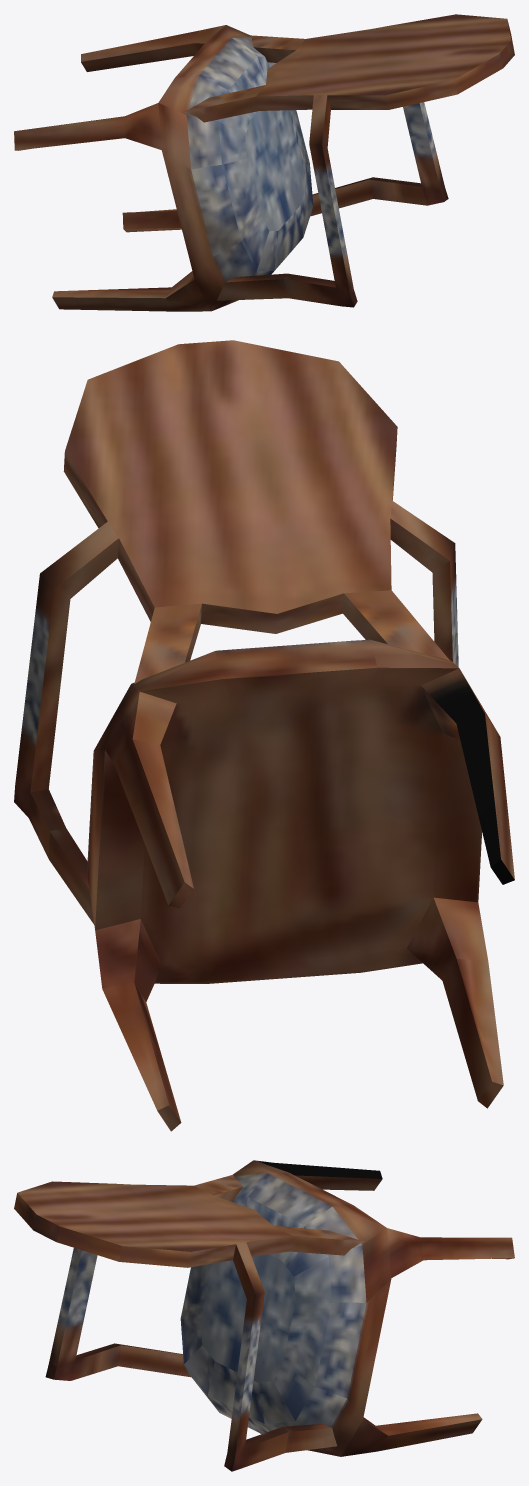
File: chair.obj
The picture shows the model from 3 angles, top to bottom: view 1: azimuth 30°, elevation 25°; view 2: azimuth 150°, elevation 25°; view 3: azimuth 270°, elevation 25°; orthographic projection. The views are drawn at different scales.
Parts seen in each view (by area): view 1: Chair.001; view 2: Chair.001; view 3: Chair.001.
Boxes of the visible parts, bbox=[...] form: Chair.001: bbox=[14, 14, 514, 311]; Chair.001: bbox=[14, 340, 514, 1131]; Chair.001: bbox=[14, 1160, 514, 1471].
Bounding box in the file's own units: 1.16 × 0.848 × 1.26.
Materials: 1 (1 with a texture image).
